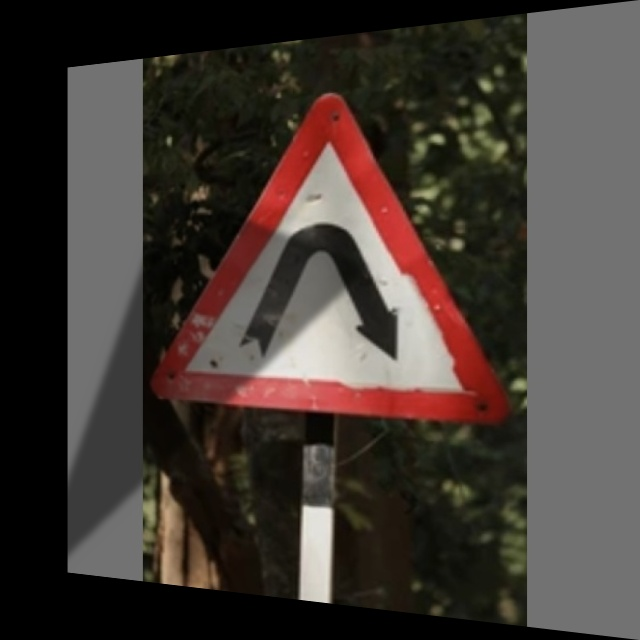Right_Hair_Pin_Bend: (161, 75, 492, 421)
